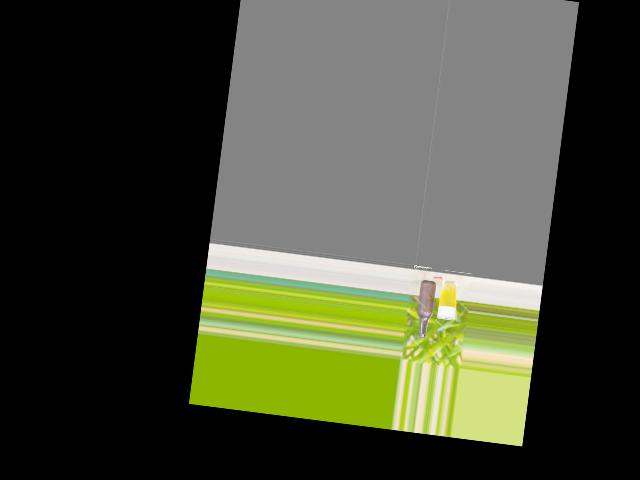beer: (414, 279, 436, 339)
